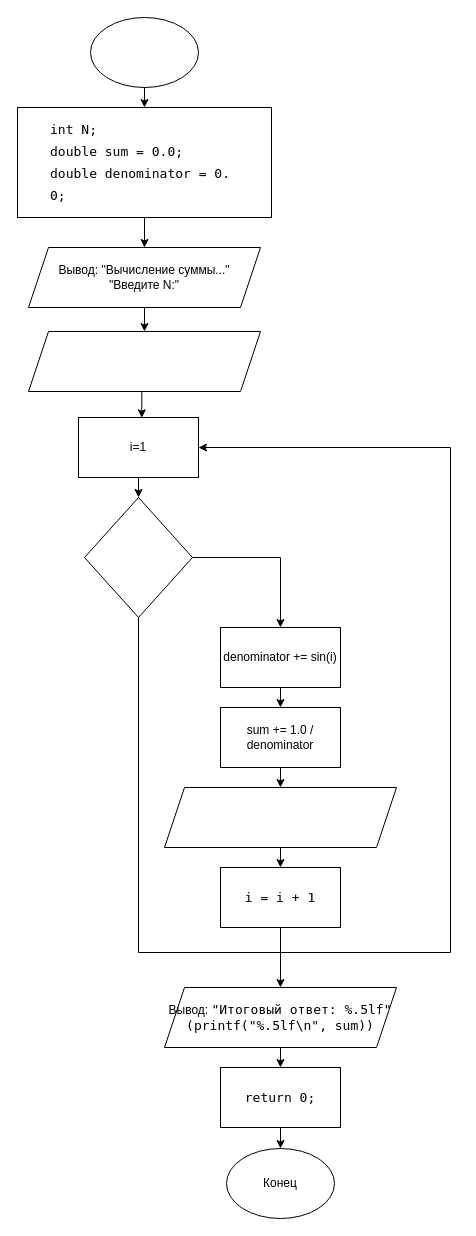
This 476x1236 diagram has some shape labels left out. The box of each missing label's shape, as (x1, y1, x2, y2) in pixels:
i <=N ?: (84, 496, 192, 618)
Ввод: N (scanf("%d", &N)): (28, 330, 260, 392)
Вывод: "i=%2d | знаменатель = | текущая сумма =: (164, 786, 396, 848)
Начало: (90, 16, 198, 88)
